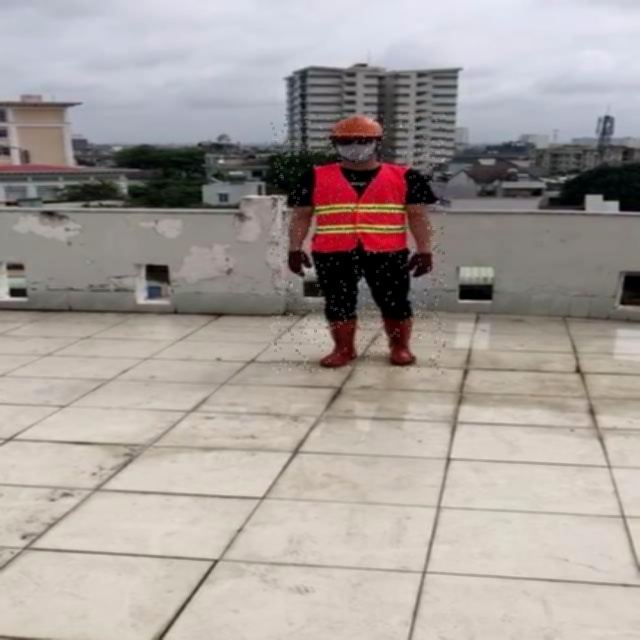boots: (276, 318, 320, 368), (222, 318, 256, 366)
gloves: (203, 248, 233, 277), (327, 249, 355, 277)
helmet: (250, 118, 314, 138)
vest: (231, 164, 331, 253)
